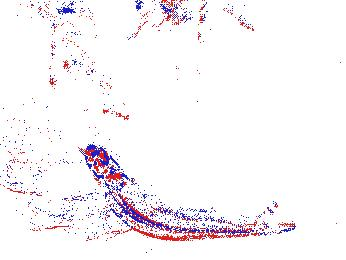X-ray fish: (34, 191, 158, 240), (1, 147, 87, 197), (1, 101, 72, 156)
glassfish: (80, 144, 297, 241)
siberian prawn: (38, 1, 130, 118)
